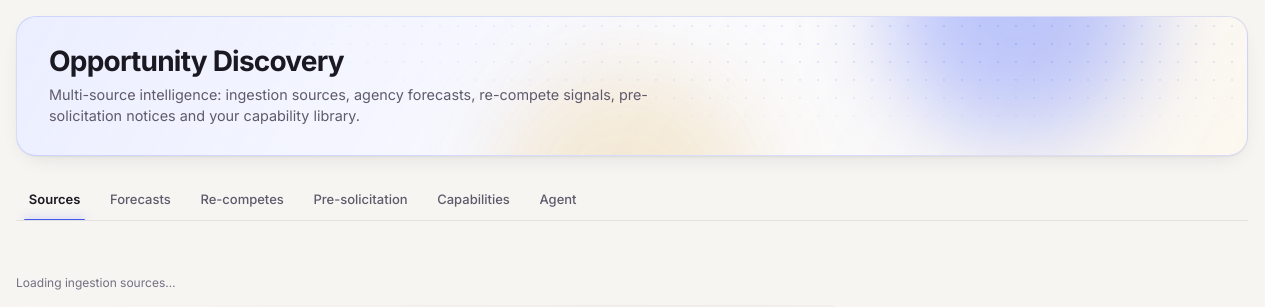
Test: Discovery — Opportunity Agent tab › opens the agent panel from its tab
The width and height of the screenshot is (1265, 307).
Step 1. Click the tab "Agent" → (558, 200), box [527, 180, 589, 220]
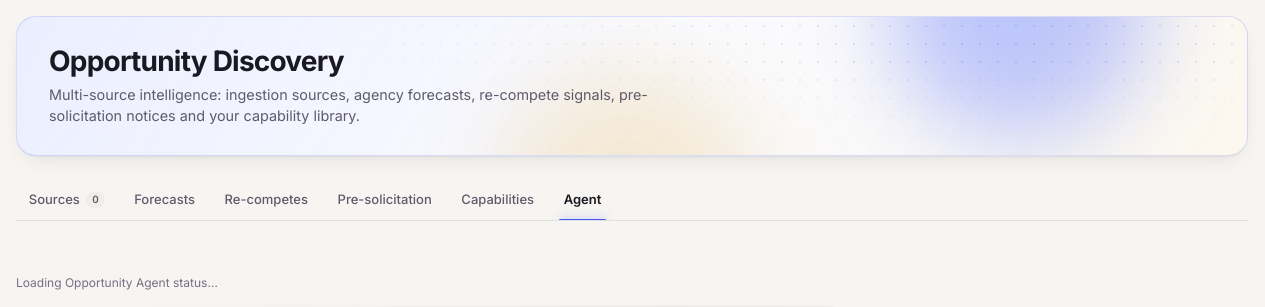
Expected: the text "Loading Opportunity Agent status…" is shown, [16, 275, 218, 290]
